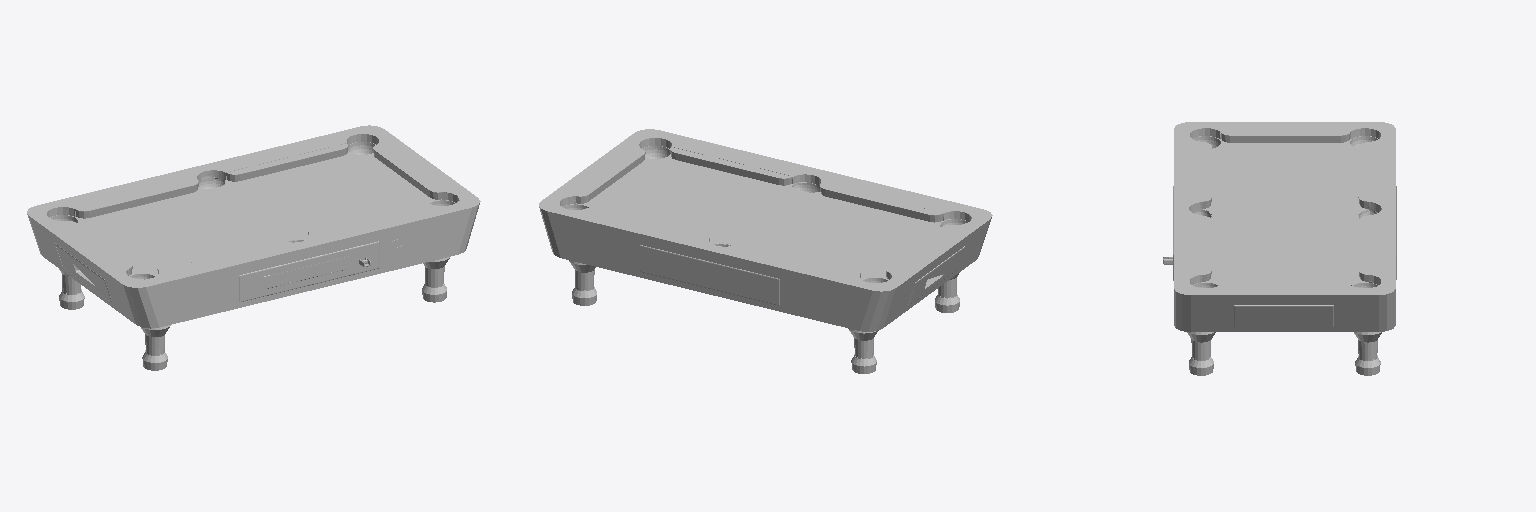
File: PoolTable.obj
3 renders of one model, left to right at view 1: azimuth 30°, elevation 25°; view 2: azimuth 150°, elevation 25°; view 3: azimuth 270°, elevation 25°, orthographic.
Parts seen in each view (by area): view 1: ChamferBox001, Box001, ChamferBox008, ChamferBox006, ChamferBox007, ChamferBox003, Cylinder006, Cylinder009, Cylinder007, ChamferBox005, ChamferBox012, ChamferBox004 (+2 smaller); view 2: ChamferBox001, Box001, ChamferBox009, ChamferBox005, ChamferBox004, ChamferBox003, Cylinder007, Cylinder008, Cylinder006, ChamferBox006, ChamferBox007, ChamferBox002 (+1 smaller); view 3: Box001, ChamferBox001, ChamferBox002, ChamferBox010, Cylinder008, Cylinder009, ChamferBox006, ChamferBox005, ChamferBox007, ChamferBox004.
Part boxes in pixels (bbox=[...]): ChamferBox001: bbox=[27, 125, 480, 328]; Box001: bbox=[76, 152, 441, 275]; ChamferBox008: bbox=[239, 241, 379, 301]; ChamferBox006: bbox=[75, 179, 198, 218]; ChamferBox007: bbox=[226, 143, 348, 181]; ChamferBox003: bbox=[373, 144, 441, 199]; Cylinder006: bbox=[141, 325, 170, 370]; Cylinder009: bbox=[422, 257, 449, 302]; Cylinder007: bbox=[59, 269, 84, 309]; ChamferBox005: bbox=[157, 238, 280, 273]; ChamferBox012: bbox=[264, 256, 348, 288]; ChamferBox004: bbox=[308, 202, 428, 234]; ChamferBox001: bbox=[539, 129, 992, 331]; Box001: bbox=[576, 156, 941, 279]; ChamferBox009: bbox=[640, 245, 779, 305]; ChamferBox005: bbox=[820, 183, 943, 222]; ChamferBox004: bbox=[670, 147, 792, 185]; ChamferBox003: bbox=[576, 149, 645, 203]; Cylinder007: bbox=[848, 328, 878, 373]; Cylinder008: bbox=[569, 260, 596, 305]; Cylinder006: bbox=[935, 273, 959, 312]; ChamferBox006: bbox=[738, 242, 860, 277]; ChamferBox007: bbox=[589, 206, 710, 236]; ChamferBox002: bbox=[886, 225, 954, 279]; Box001: bbox=[1202, 139, 1368, 284]; ChamferBox001: bbox=[1174, 122, 1395, 331]; ChamferBox002: bbox=[1221, 132, 1350, 142]; ChamferBox010: bbox=[1234, 305, 1333, 326]; Cylinder008: bbox=[1354, 332, 1381, 375]; Cylinder009: bbox=[1187, 332, 1215, 375]; ChamferBox006: bbox=[1358, 142, 1368, 208]; ChamferBox005: bbox=[1202, 142, 1211, 208]; ChamferBox007: bbox=[1359, 216, 1368, 281]; ChamferBox004: bbox=[1202, 216, 1211, 281].
Bounding box in the file's own units: 111 × 28.29 × 62.79.